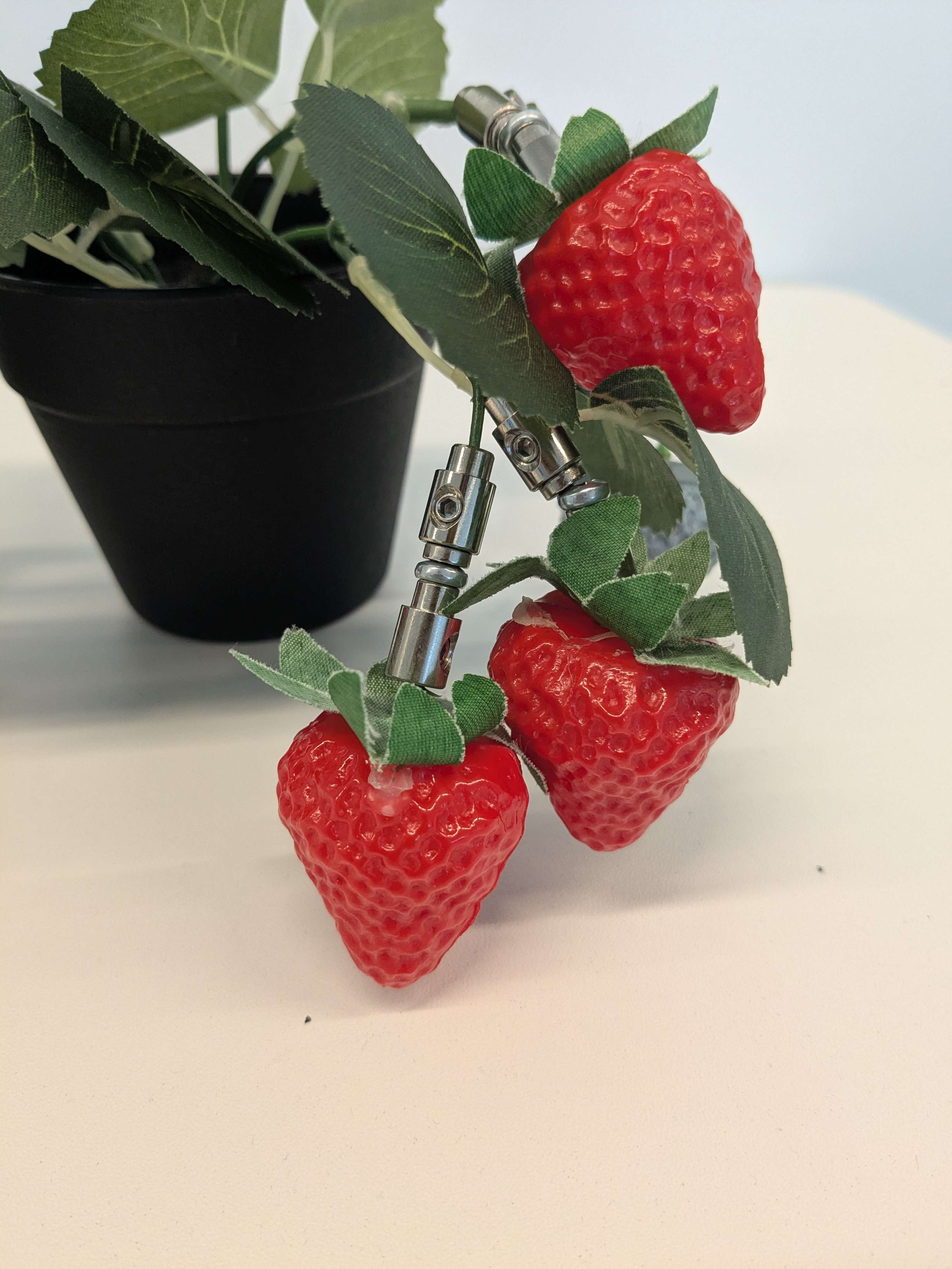Strawberry: (486, 117, 804, 440), (482, 544, 770, 879), (260, 691, 539, 1021)
